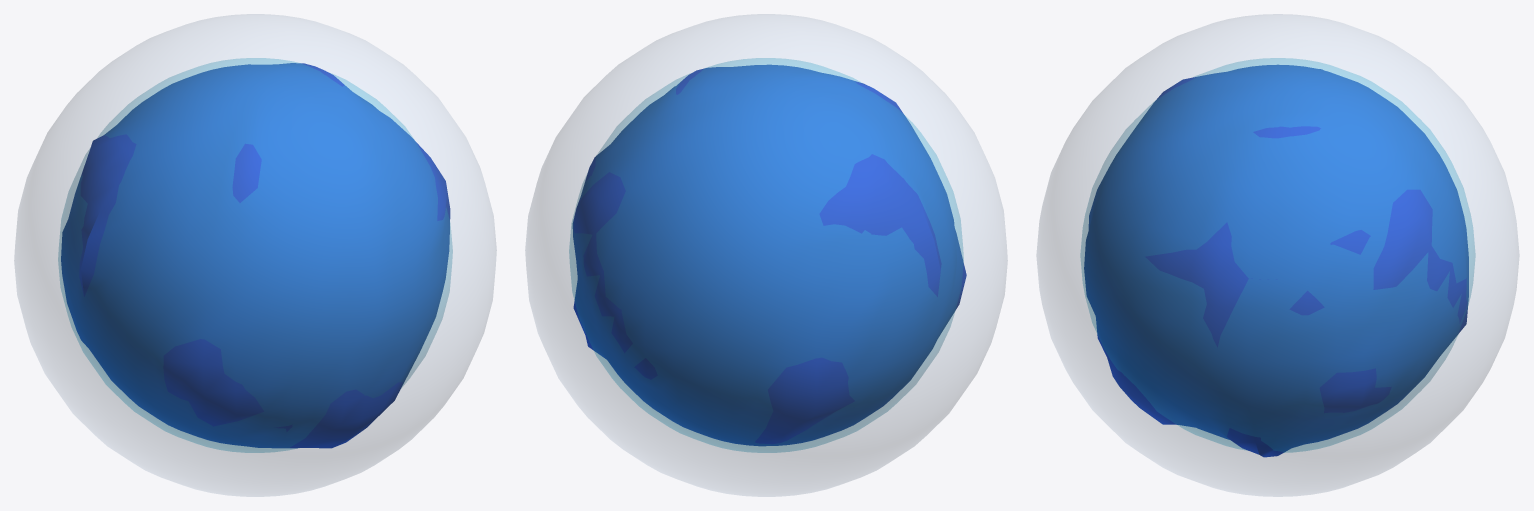
File: planet3.glb
The picture shows the model from 3 angles, left to right: view 1: azimuth 30°, elevation 25°; view 2: azimuth 150°, elevation 25°; view 3: azimuth 270°, elevation 25°; orthographic projection.
Visible parts, largest first — view 1: Sphere.1, Sphere.2, Sphere; view 2: Sphere.1, Sphere.2, Sphere; view 3: Sphere.1, Sphere.2, Sphere.
Part boxes in pixels (x1,y1,x2,y2): Sphere.1: [14, 14, 496, 496]; Sphere.2: [61, 63, 450, 448]; Sphere: [58, 58, 452, 452]; Sphere.1: [525, 14, 1007, 496]; Sphere.2: [572, 64, 966, 446]; Sphere: [569, 58, 963, 452]; Sphere.1: [1036, 14, 1519, 496]; Sphere.2: [1084, 64, 1468, 457]; Sphere: [1080, 58, 1475, 452].
Bounding box in the file's own units: 110 × 110 × 110.
